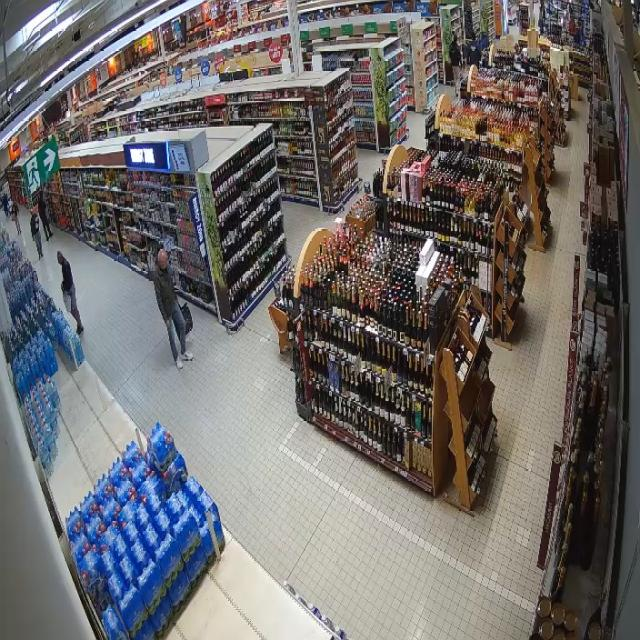bags: (180, 304, 192, 334), (63, 292, 71, 312)
hands: (166, 319, 170, 328), (61, 283, 64, 292)
person: (154, 249, 192, 368), (58, 251, 83, 335), (449, 35, 460, 95), (39, 192, 52, 241), (30, 211, 42, 257)
